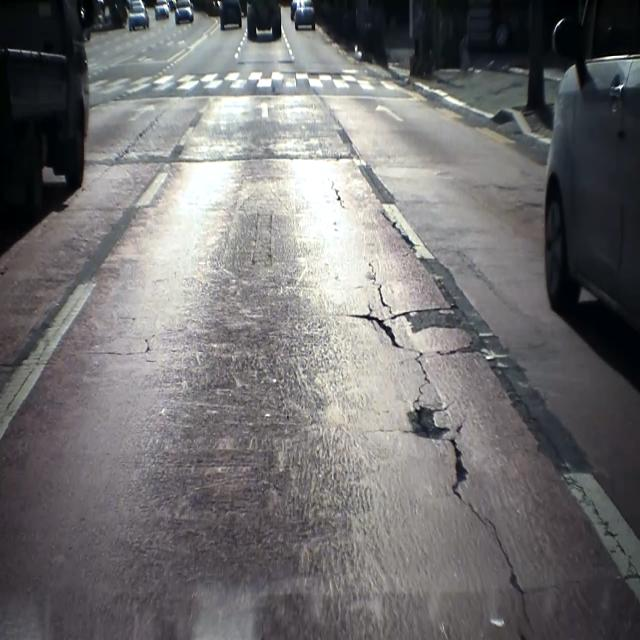Pothole: (344, 304, 472, 490)
